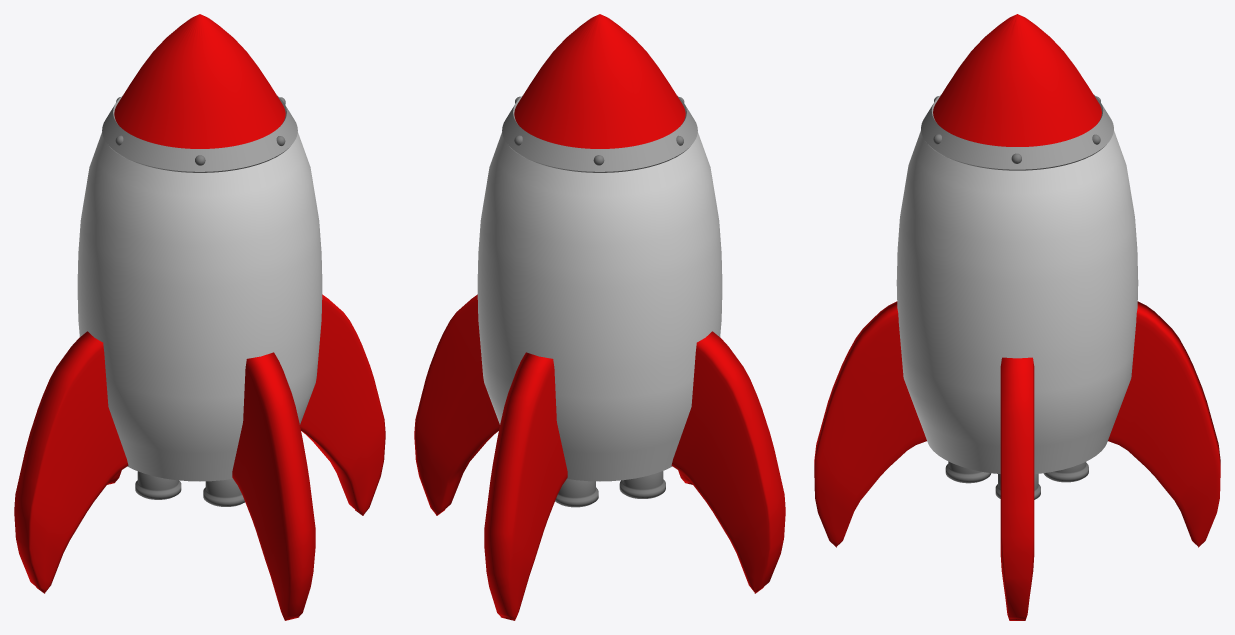
The model's file is toy_rocket_modified_2.glb.
The picture shows the model from 3 angles, left to right: view 1: azimuth 30°, elevation 25°; view 2: azimuth 150°, elevation 25°; view 3: azimuth 270°, elevation 25°; orthographic projection.
Parts seen in each view (by area): view 1: Cylinder, Cube, Cylinder.001, Cylinder.002, Cylinder.005; view 2: Cylinder, Cube, Cylinder.001, Cylinder.002, Cylinder.005; view 3: Cylinder, Cube, Cylinder.001, Cylinder.002, Cylinder.005.
Boxes of the visible parts, box(x1,y1,x2,y2) form: Cylinder: box(77, 132, 322, 481); Cube: box(14, 294, 385, 620); Cylinder.001: box(114, 14, 285, 148); Cylinder.002: box(102, 95, 297, 172); Cylinder.005: box(135, 471, 244, 506); Cylinder: box(477, 132, 722, 481); Cube: box(414, 294, 785, 620); Cylinder.001: box(514, 14, 685, 148); Cylinder.002: box(502, 95, 697, 172); Cylinder.005: box(555, 471, 665, 507); Cylinder: box(896, 131, 1138, 473); Cube: box(814, 301, 1220, 620); Cylinder.001: box(933, 14, 1101, 146); Cylinder.002: box(921, 95, 1113, 170); Cylinder.005: box(945, 461, 1088, 499).
Bounding box in the file's own units: 6.52 × 9.39 × 6.52.
